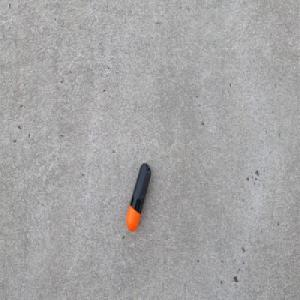PlasticPart: (125, 161, 151, 232)
